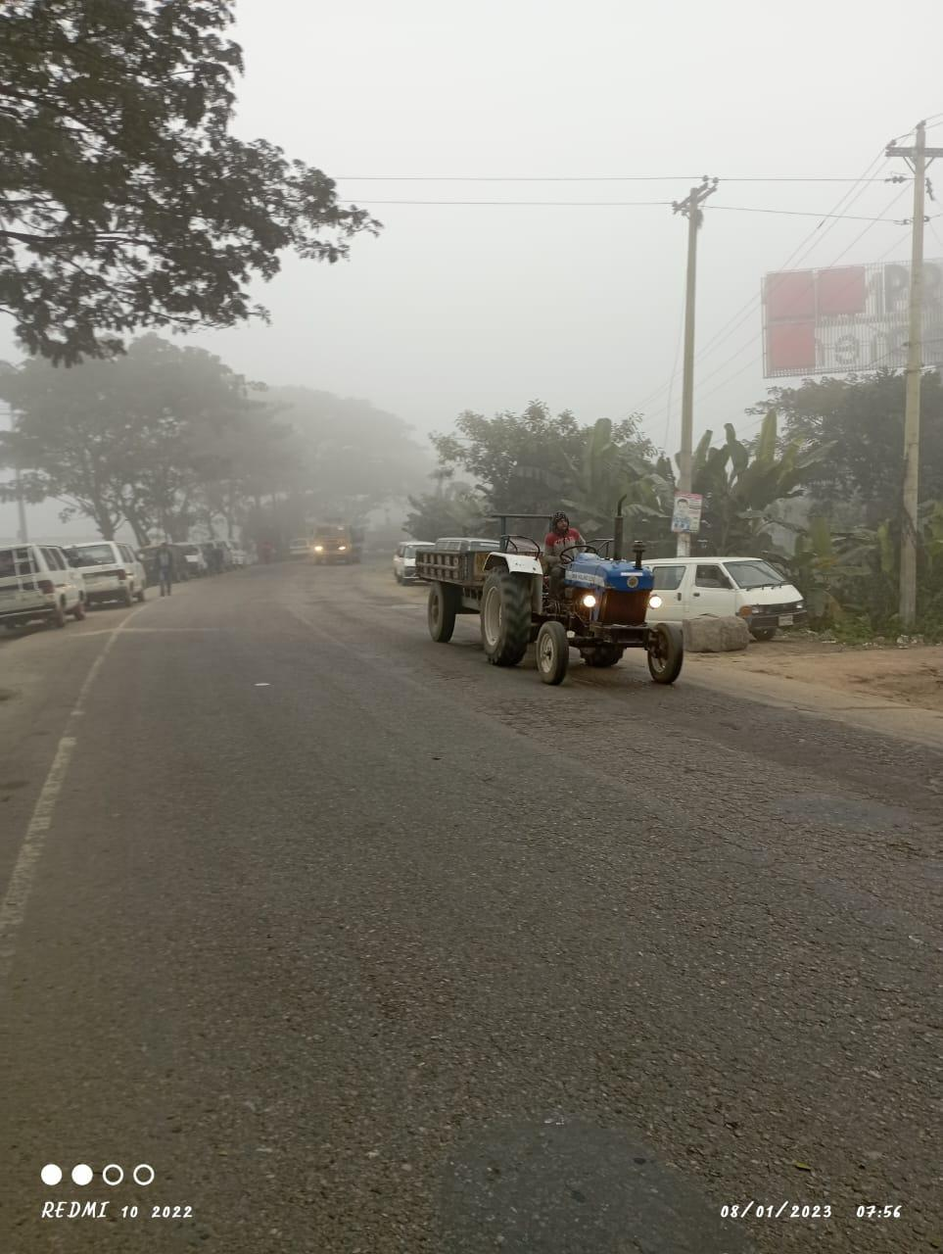Car: (639, 546, 804, 639), (4, 536, 88, 634), (59, 533, 158, 610)
Truck: (420, 497, 690, 694), (307, 514, 381, 573)
